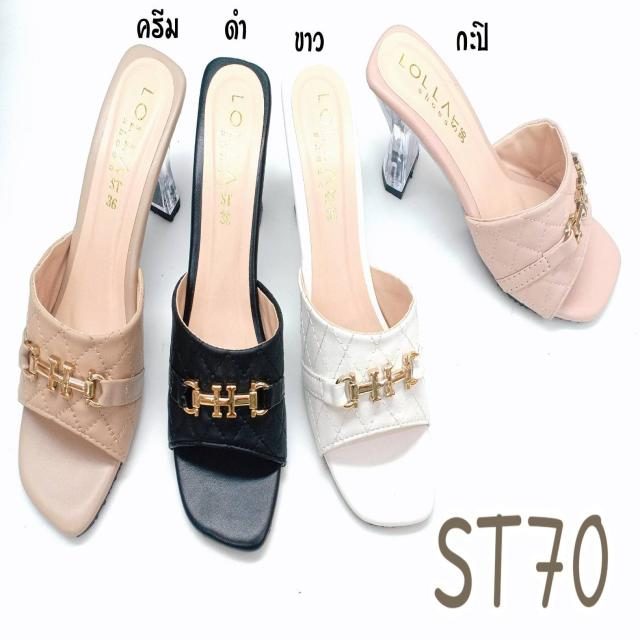black: (168, 54, 284, 547)
cream: (20, 43, 178, 534)
kapi: (372, 26, 613, 322)
white: (286, 69, 439, 528)
